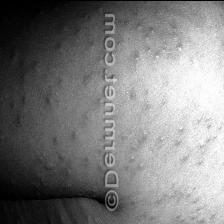Toxin: (145, 24, 155, 54), (132, 54, 142, 64), (128, 90, 136, 98)
